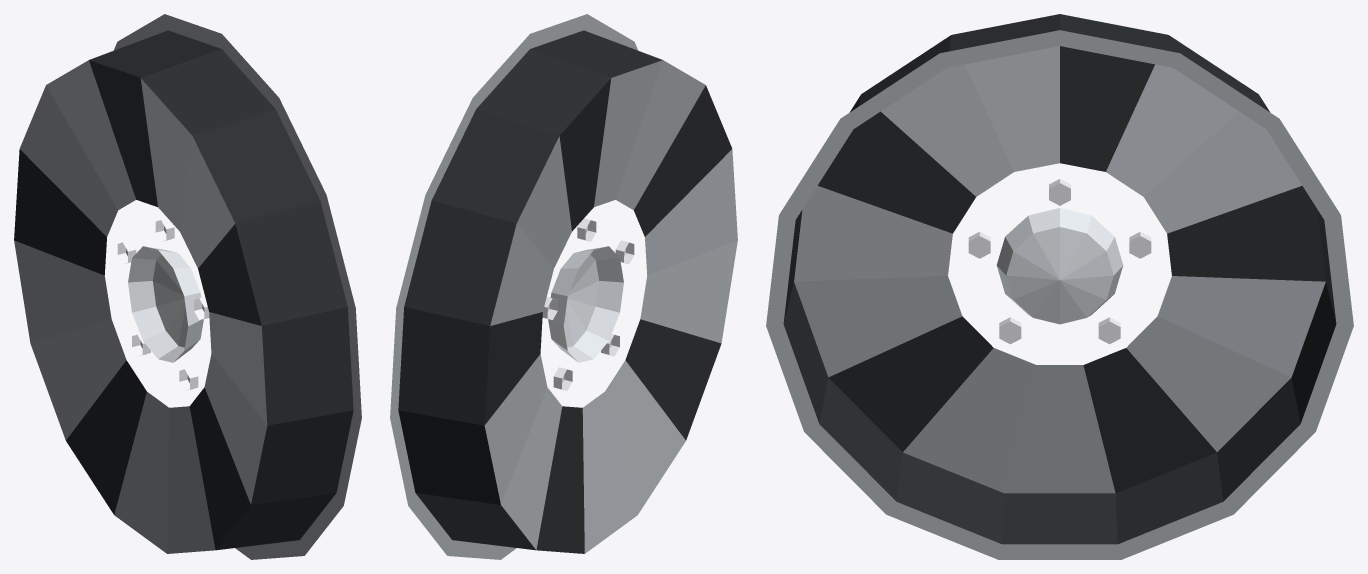
Rendered from rim_02_wrangler_canyon.obj.
The picture shows the model from 3 angles, left to right: view 1: azimuth 30°, elevation 25°; view 2: azimuth 150°, elevation 25°; view 3: azimuth 270°, elevation 25°; orthographic projection. The views are drawn at different scales.
Visible parts, largest first — view 1: rim_02_wrangler_canyon; view 2: rim_02_wrangler_canyon; view 3: rim_02_wrangler_canyon.
Part boxes in pixels (left/top/right/bottom): rim_02_wrangler_canyon: left=14, top=14, right=361, bottom=559; rim_02_wrangler_canyon: left=390, top=14, right=737, bottom=559; rim_02_wrangler_canyon: left=766, top=14, right=1353, bottom=559.
Bounding box in the file's own units: 0.0875 × 0.5193 × 0.5221.
